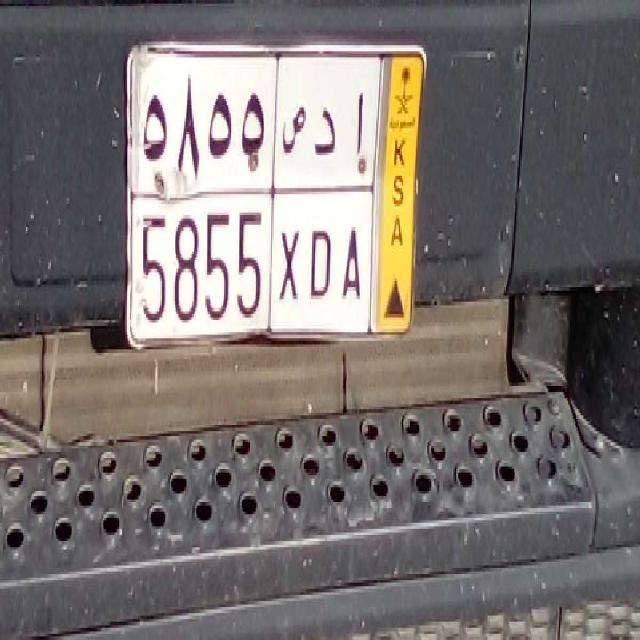license_plate: (131, 189, 368, 336)
